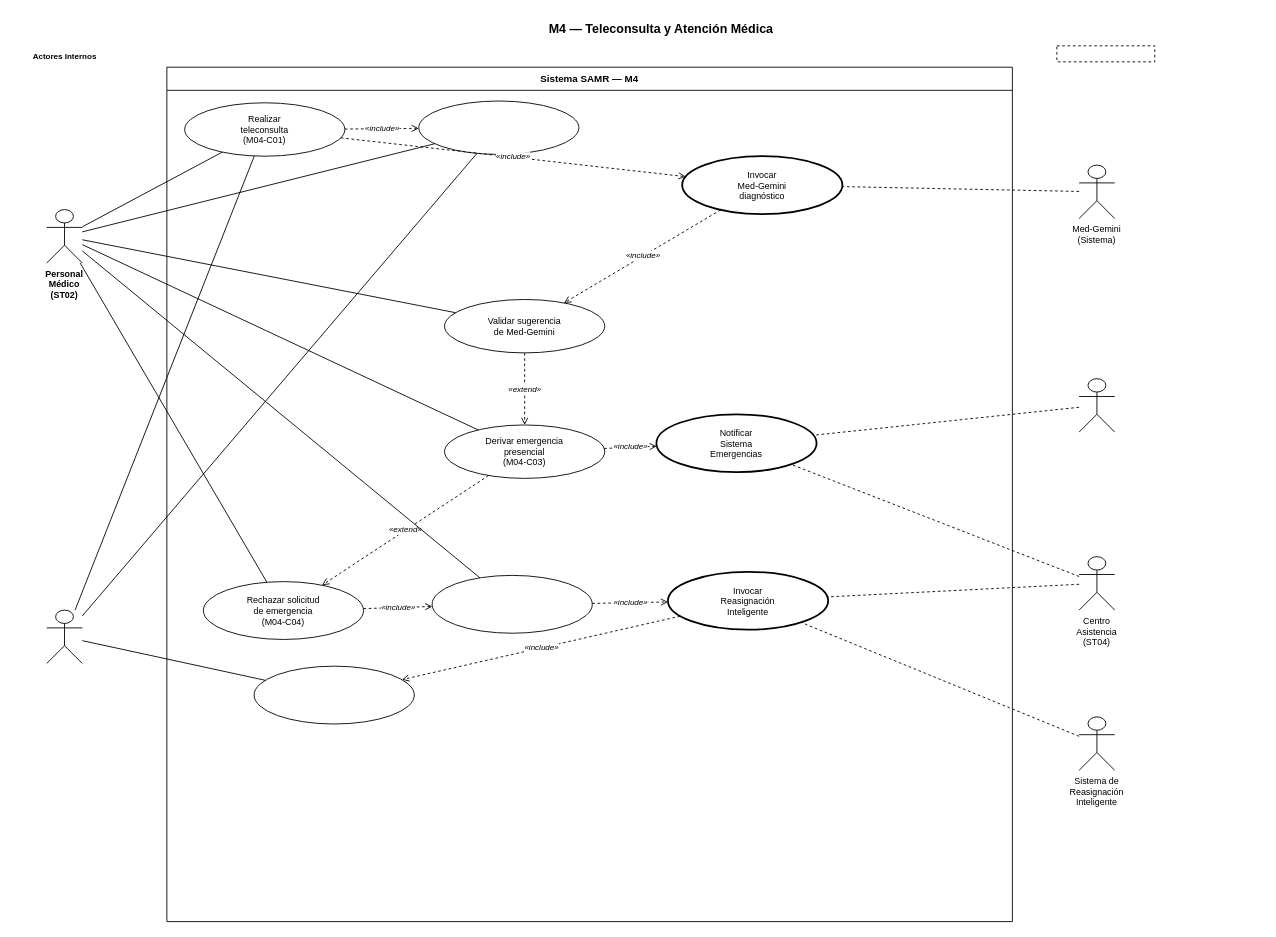
Image size: 1276x937. Some labels were removed from this diagram. Here are the shapes that lost their labels. From the top down, the box of each, then its label:
(1056, 45, 1155, 62): Actores Externos
(418, 100, 579, 154): Consultar historial clínico completo
(1078, 378, 1115, 432): Sistema Emergencias
(431, 574, 592, 633): Seleccionar motivo de rechazo (obligatorio)
(46, 609, 82, 663): Paciente (ST01)
(253, 665, 414, 724): Notificar paciente nuevo tiempo de atención
